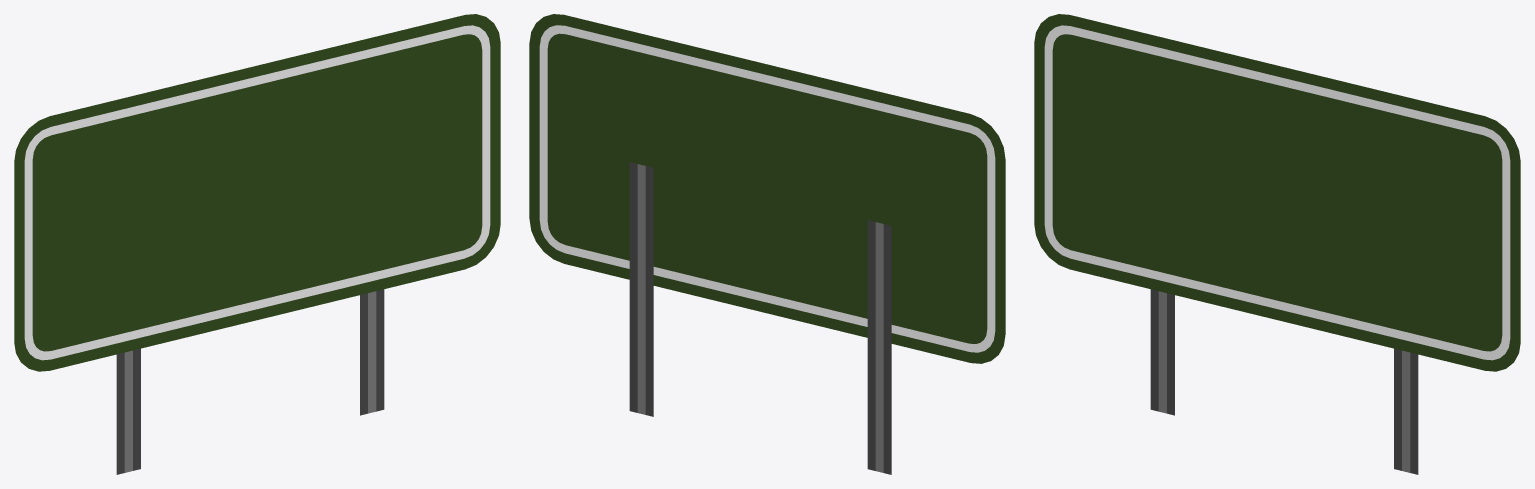
Rendered from Sign.glb.
3 renders of one model, left to right at view 1: azimuth 30°, elevation 25°; view 2: azimuth 150°, elevation 25°; view 3: azimuth 330°, elevation 25°, orthographic. The views are drawn at different scales.
Parts seen in each view (by area): view 1: Sign; view 2: Sign; view 3: Sign.
Boxes of the visible parts, bbox=[...] form: Sign: bbox=[14, 14, 500, 474]; Sign: bbox=[529, 14, 1005, 474]; Sign: bbox=[1034, 14, 1520, 474].
Bounding box in the file's own units: 4 × 3 × 0.1.
